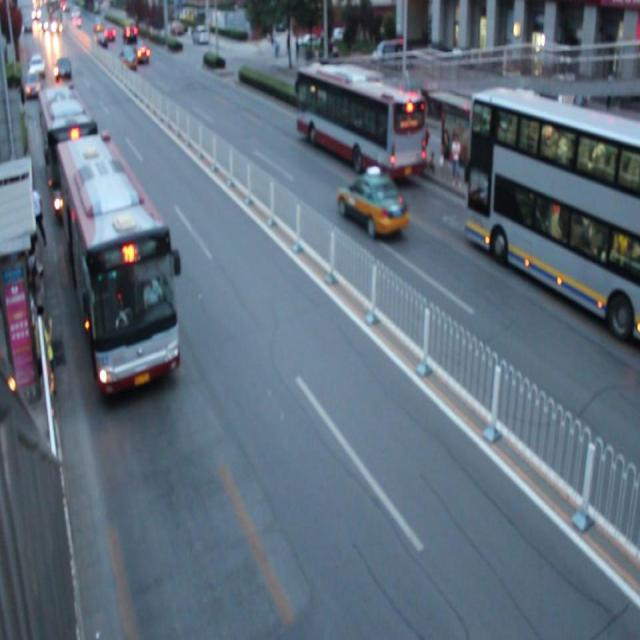car: (334, 174, 407, 240)
van: (467, 87, 640, 335), (58, 140, 178, 399), (293, 68, 425, 182), (37, 82, 100, 198)
